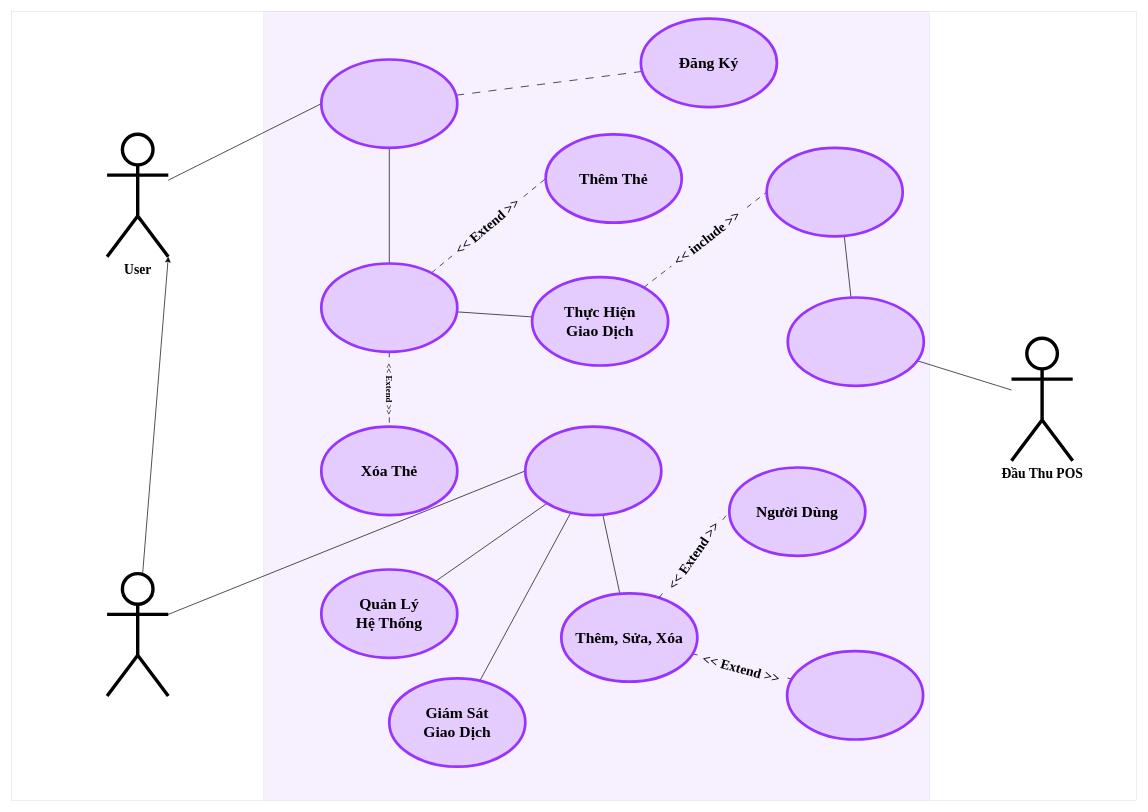
Image size: 1148x812. Some labels were removed from this diagram. Here are the shapes that lost their labels. From the top down, the centre of each, then its label:
At [389,103]: "Đăng Nhập".
At [834,191]: "Chọn Thẻ".
At [389,307]: "Quản Lý Thẻ".
At [855,341]: "Truyền Thông Tin".
At [593,470]: "Quản Lý Người Dùng".
At [137,634]: "Admin".
At [854,695]: "Thẻ".
